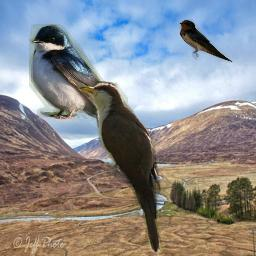Cuckoo: (78, 81, 165, 256)
Swallow: (29, 24, 143, 152), (178, 19, 233, 63)
